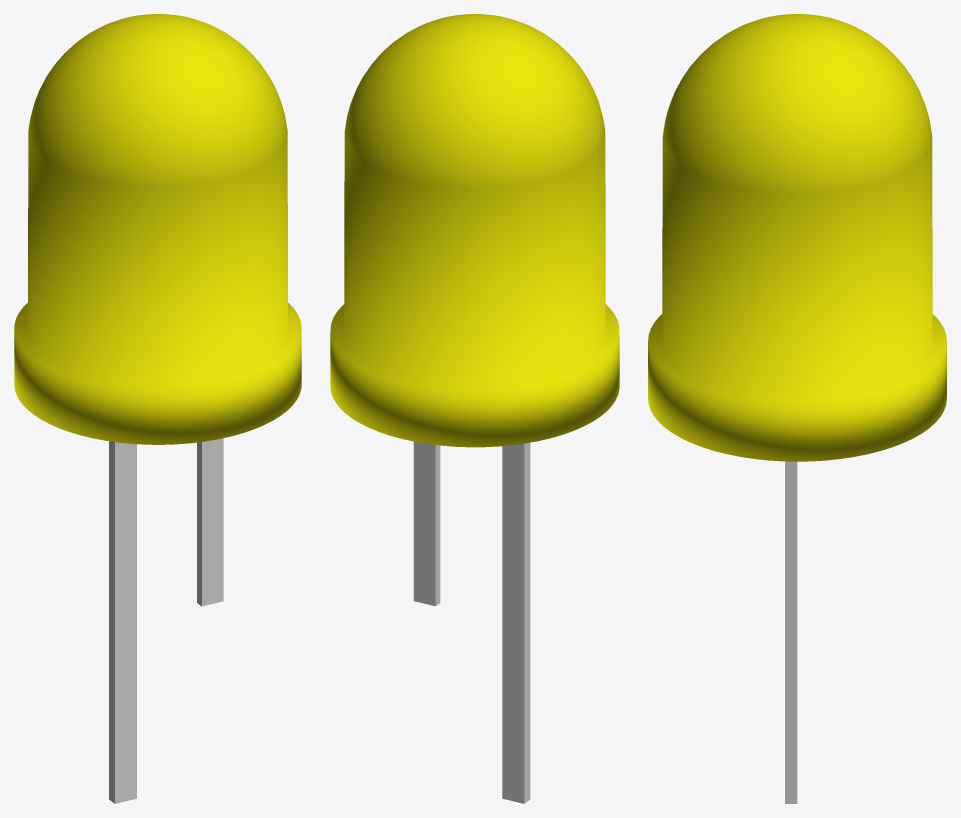
Rendered from led.glb.
3 renders of one model, left to right at view 1: azimuth 30°, elevation 25°; view 2: azimuth 150°, elevation 25°; view 3: azimuth 270°, elevation 25°, orthographic. The views are drawn at different scales.
Visible parts, largest first — view 1: Sphere.001, Plane, Sphere.002; view 2: Sphere.001, Plane, Sphere.002; view 3: Sphere.001, Plane, Sphere.002.
Boxes of the visible parts, x1,y1,x2,y2 form: Sphere.001: (14, 14, 301, 444); Plane: (109, 441, 136, 803); Sphere.002: (197, 438, 223, 606); Sphere.001: (330, 14, 619, 447); Plane: (502, 442, 530, 803); Sphere.002: (413, 441, 440, 606); Sphere.001: (648, 14, 946, 461); Plane: (785, 461, 797, 803); Sphere.002: (787, 461, 797, 666).
Bounding box in the file's own units: 2.21 × 6.44 × 2.21.
